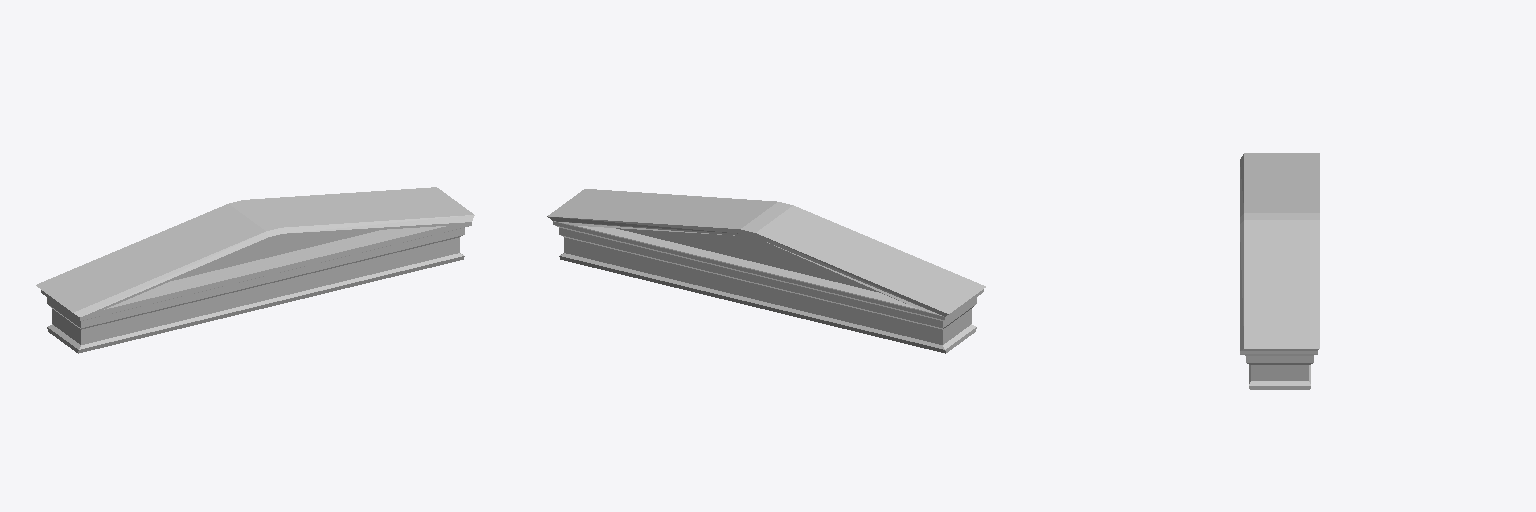
The model's file is _ntryroof.obj.
3 renders of one model, left to right at view 1: azimuth 30°, elevation 25°; view 2: azimuth 150°, elevation 25°; view 3: azimuth 270°, elevation 25°, orthographic.
Parts seen in each view (by area): view 1: _ntryroof; view 2: _ntryroof; view 3: _ntryroof.
Part boxes in pixels (bbox=[...]): _ntryroof: bbox=[36, 187, 474, 353]; _ntryroof: bbox=[547, 189, 985, 353]; _ntryroof: bbox=[1240, 153, 1319, 389].
Bounding box in the file's own units: 37.34 × 7.02 × 6.46.